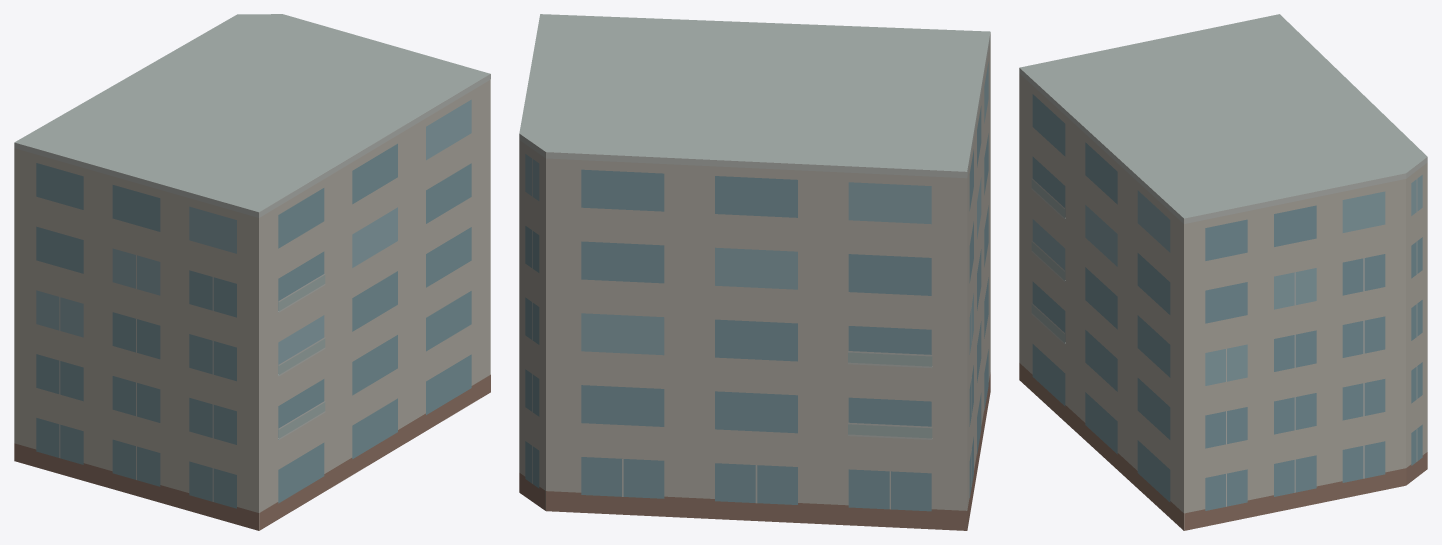
File: survey-upis-32879904.glb
3 renders of one model, left to right at view 1: azimuth 30°, elevation 25°; view 2: azimuth 150°, elevation 25°; view 3: azimuth 270°, elevation 25°, orthographic. The views are drawn at different scales.
Parts seen in each view (by area): view 1: survey-upis-32879904.tmp; view 2: survey-upis-32879904.tmp; view 3: survey-upis-32879904.tmp.
Boxes of the visible parts, <box> form: survey-upis-32879904.tmp: <box>14,14,490,530</box>; survey-upis-32879904.tmp: <box>519,14,990,530</box>; survey-upis-32879904.tmp: <box>1019,14,1427,530</box>.
Size of the model in its own units: 19.26 by 13.7 by 16.25.
